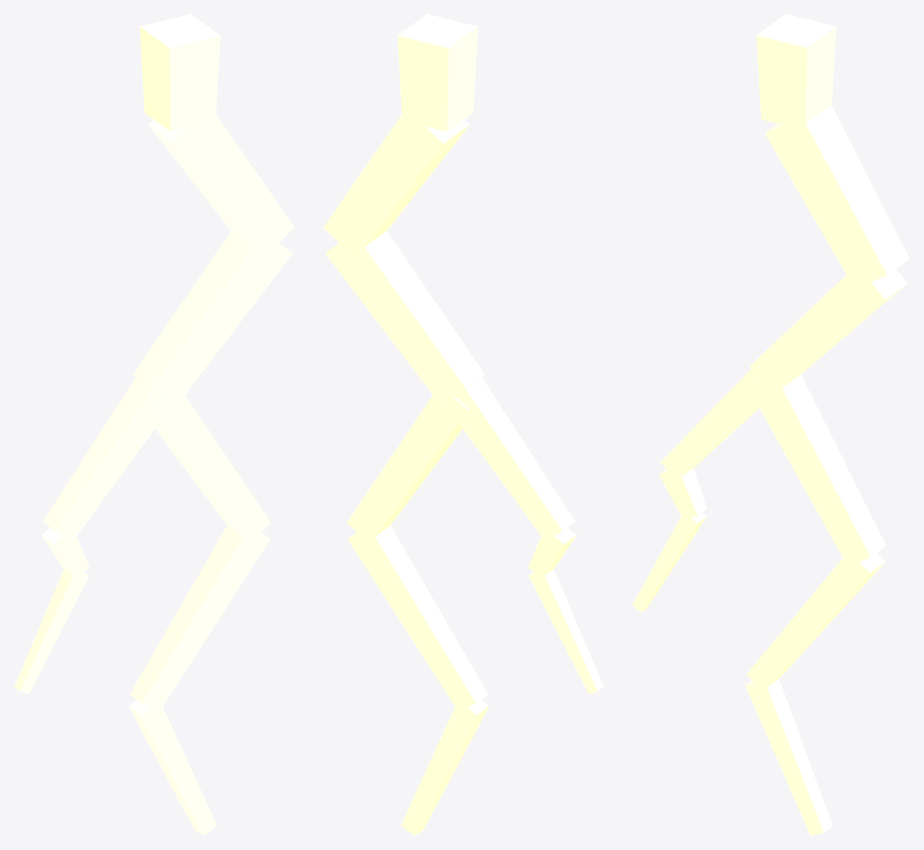
File: SM_Lightning.fbx
3 views of the same model, side by side, from view 1: azimuth 30°, elevation 25°; view 2: azimuth 150°, elevation 25°; view 3: azimuth 330°, elevation 25° (orthographic).
Parts seen in each view (by area): view 1: SM_Lightning; view 2: SM_Lightning; view 3: SM_Lightning.
Part boxes in pixels (<box>): SM_Lightning: <box>14,14,294,835</box>; SM_Lightning: <box>323,14,603,835</box>; SM_Lightning: <box>632,14,909,835</box>.
Bounding box in the file's own units: 5.21 × 15.06 × 1.
